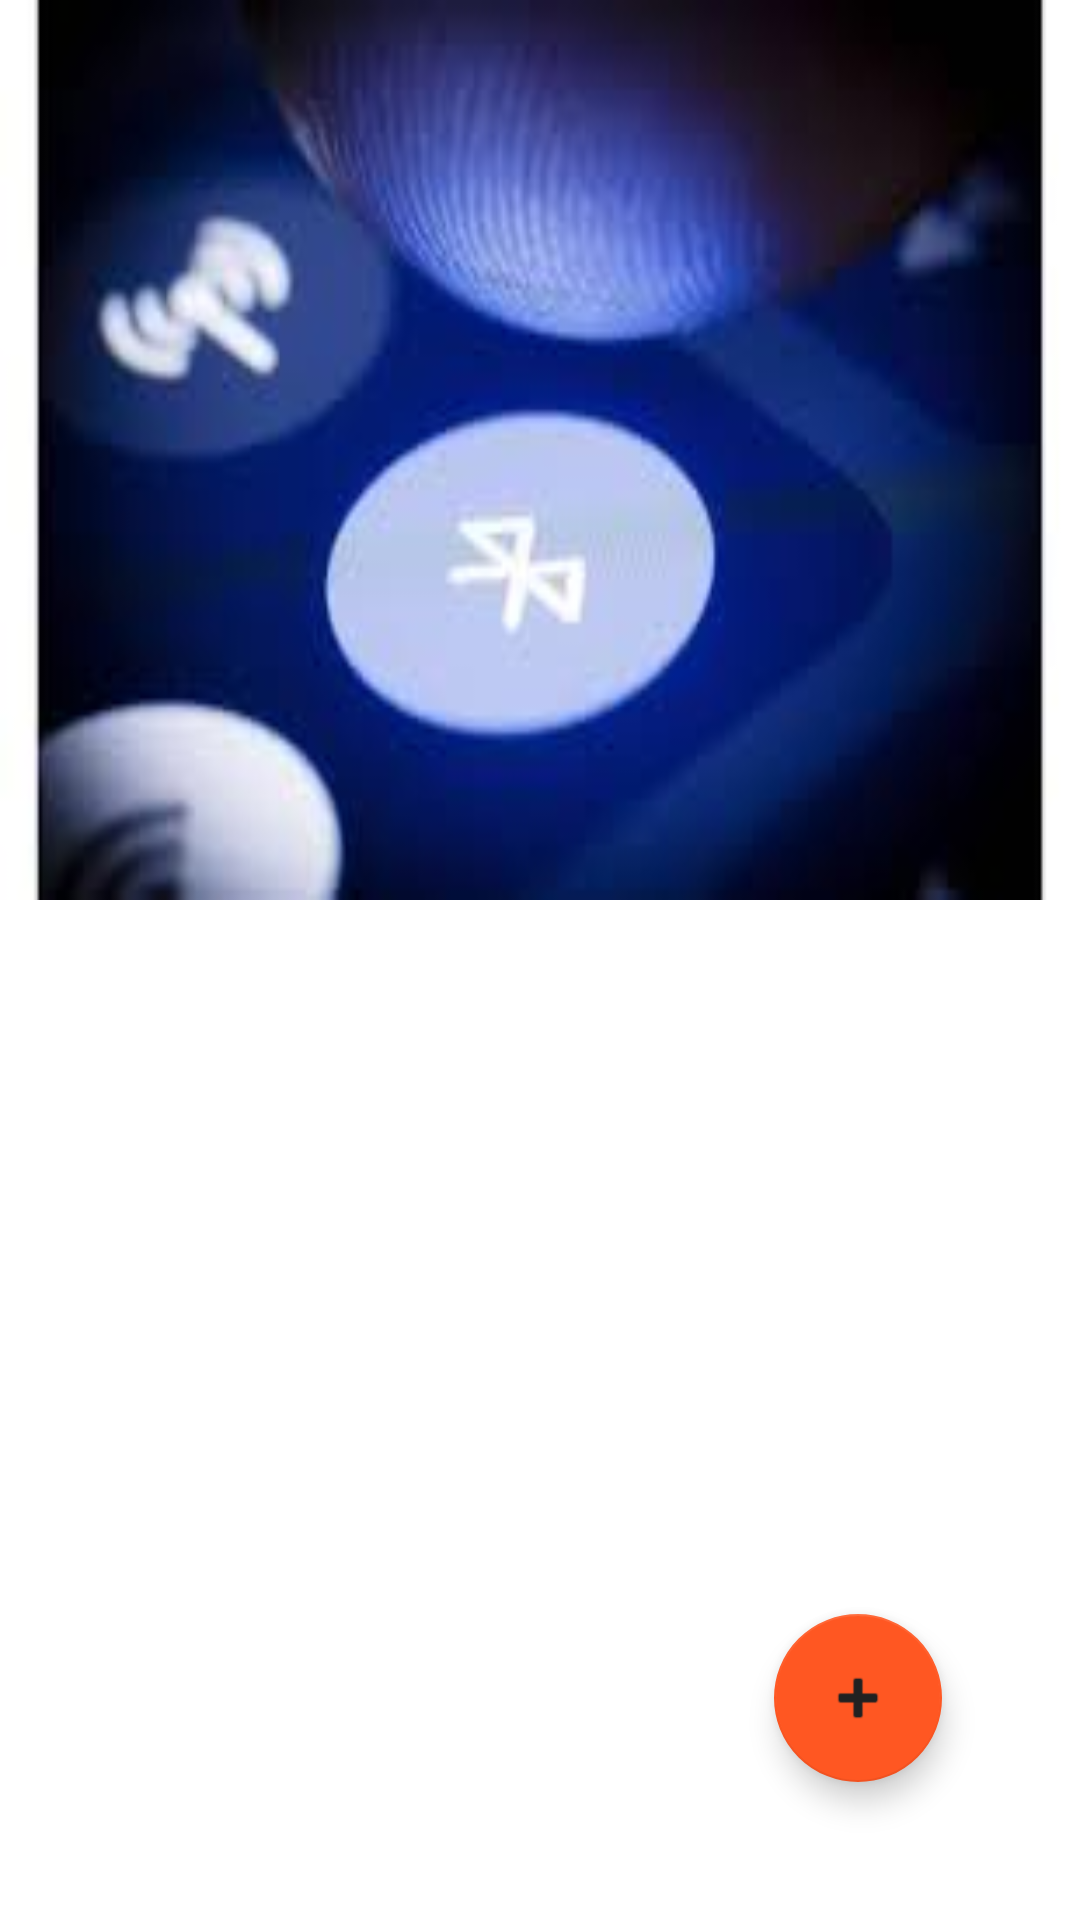

Where icons sit on this 1080*1920 app screen, as Rect(x1, y1, x2, y2):
add: Rect(774, 1614, 942, 1782)
